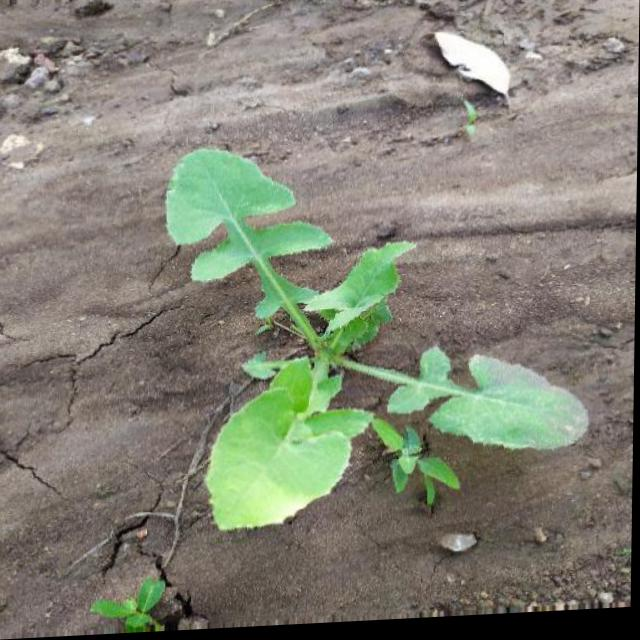weed: (143, 123, 597, 539)
